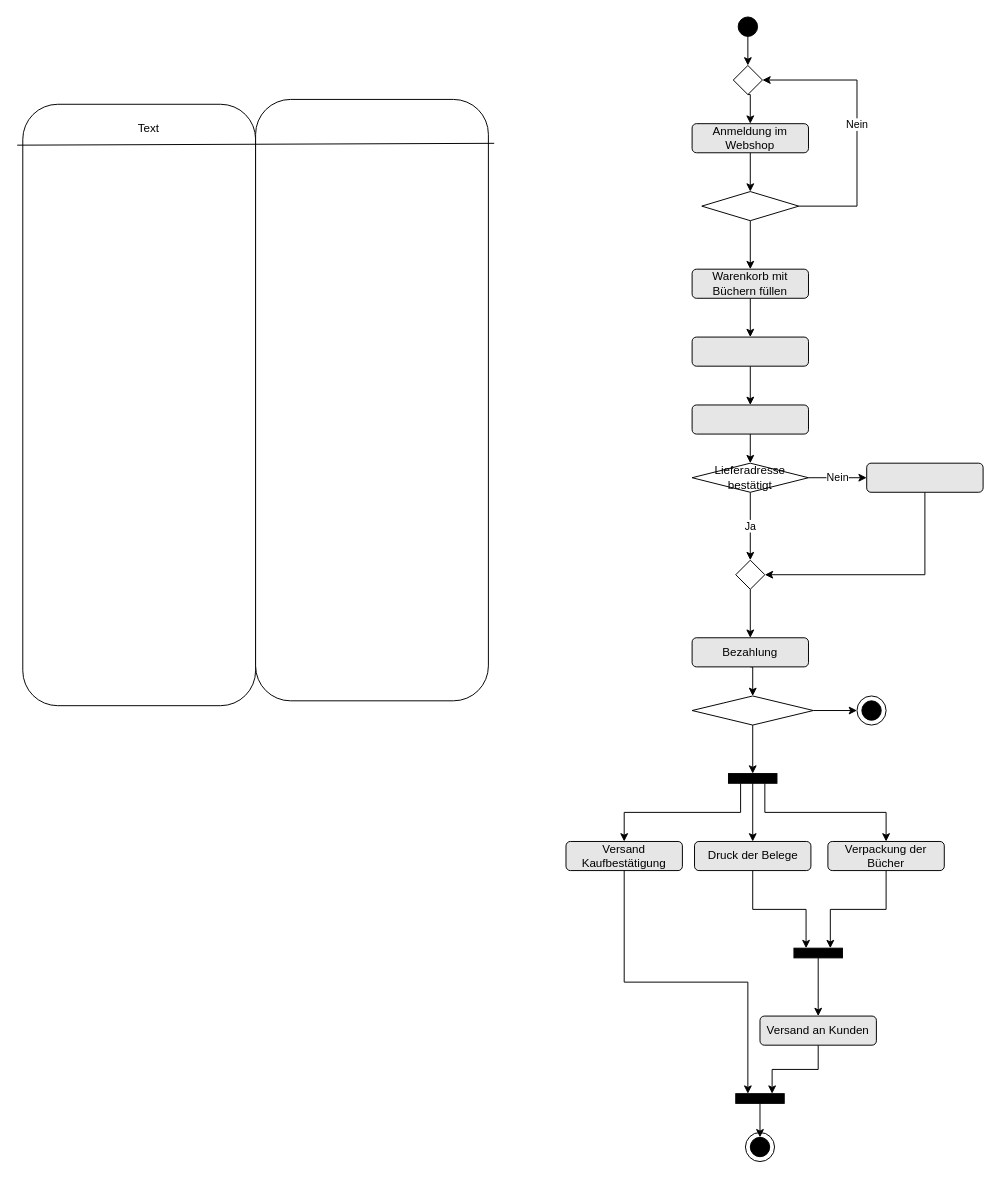
Some shapes in this 1000 by 1179 pixel diagram are drawn without their labels. The shapes that lost their labels are listed below. From the top down, each one's centre as x and y in pixels, then its label:
pixel 750 206: Login valide
pixel 749 351: Bestellung abschließen
pixel 749 419: Lieferadresse bestätigen
pixel 924 477: Eingabe Lieferadresse
pixel 752 710: Bezahlung success
